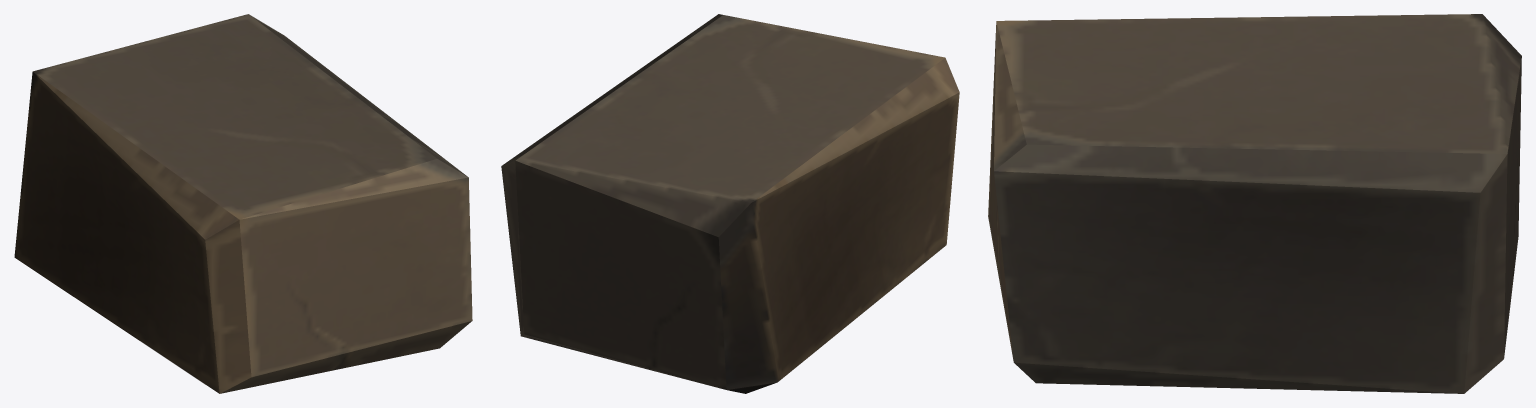
The model's file is SM_EgyptianBlock2x1x1.fbx.
The picture shows the model from 3 angles, left to right: view 1: azimuth 30°, elevation 25°; view 2: azimuth 150°, elevation 25°; view 3: azimuth 270°, elevation 25°; orthographic projection. The views are drawn at different scales.
Parts seen in each view (by area): view 1: SM_Stone01; view 2: SM_Stone01; view 3: SM_Stone01.
Boxes of the visible parts, x1,y1,x2,y2 form: SM_Stone01: (14, 14, 472, 393); SM_Stone01: (501, 14, 959, 393); SM_Stone01: (988, 14, 1521, 393).
Bounding box in the file's own units: 17.9 × 12.34 × 24.96.
